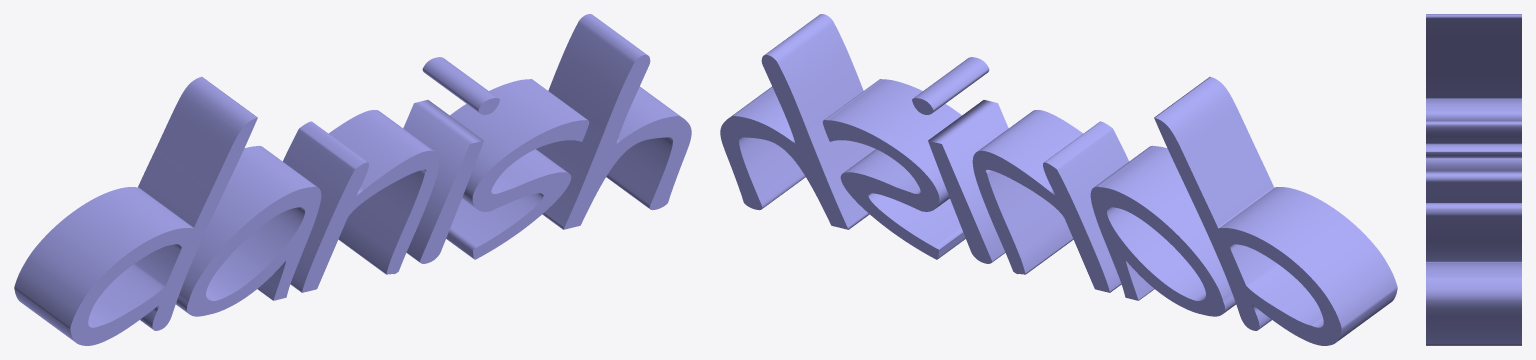
The picture shows the model from 3 angles, left to right: view 1: azimuth 30°, elevation 25°; view 2: azimuth 150°, elevation 25°; view 3: azimuth 270°, elevation 25°; orthographic projection. The views are drawn at different scales.
Parts seen in each view (by area): view 1: danish; view 2: danish; view 3: danish.
Part boxes in pixels (left/top/right/bottom): danish: left=14, top=14, right=691, bottom=345; danish: left=720, top=14, right=1397, bottom=345; danish: left=1426, top=14, right=1521, bottom=345.
Bounding box in the file's own units: 2.89 × 0.8661 × 0.45.
